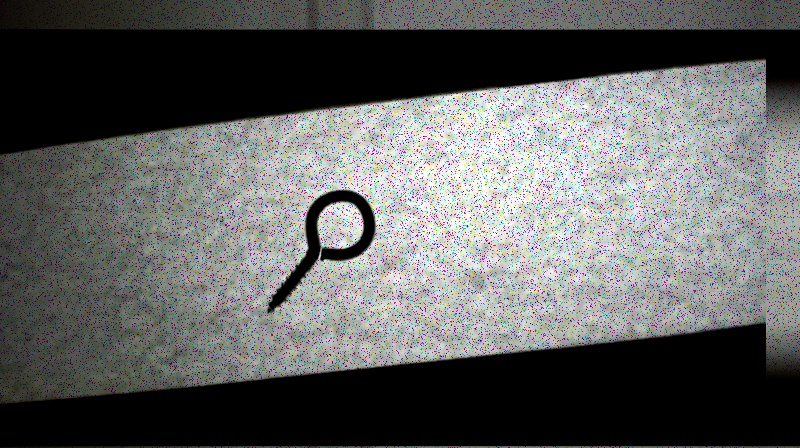O001: (265, 186, 379, 315)
